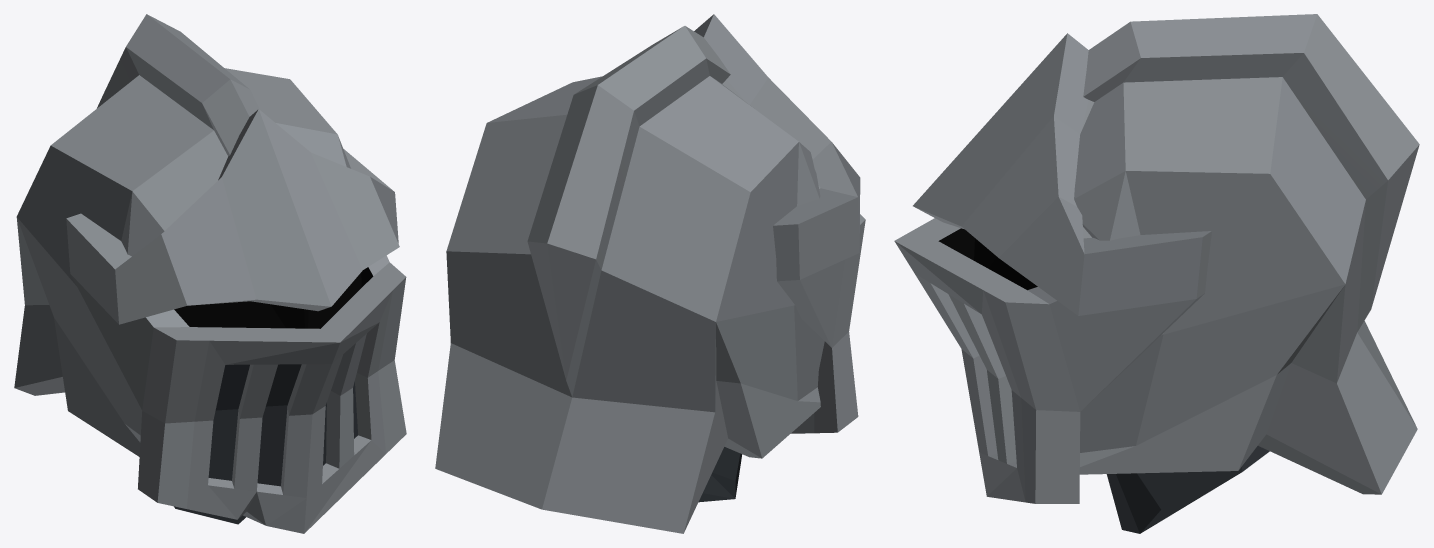
The model's file is Chr_Head_No_Elements_Female_04_Static.fbx.
3 views of the same model, side by side, from view 1: azimuth 30°, elevation 25°; view 2: azimuth 150°, elevation 25°; view 3: azimuth 270°, elevation 25° (orthographic). The views are drawn at different scales.
Parts seen in each view (by area): view 1: Chr_Head_No_Elements_Female_04_Static; view 2: Chr_Head_No_Elements_Female_04_Static; view 3: Chr_Head_No_Elements_Female_04_Static.
Part boxes in pixels (x1,y1,x2,y2): Chr_Head_No_Elements_Female_04_Static: [14, 14, 406, 533]; Chr_Head_No_Elements_Female_04_Static: [435, 14, 865, 533]; Chr_Head_No_Elements_Female_04_Static: [894, 14, 1419, 533].
Bounding box in the file's own units: 0.2809 × 0.4258 × 0.3957.
